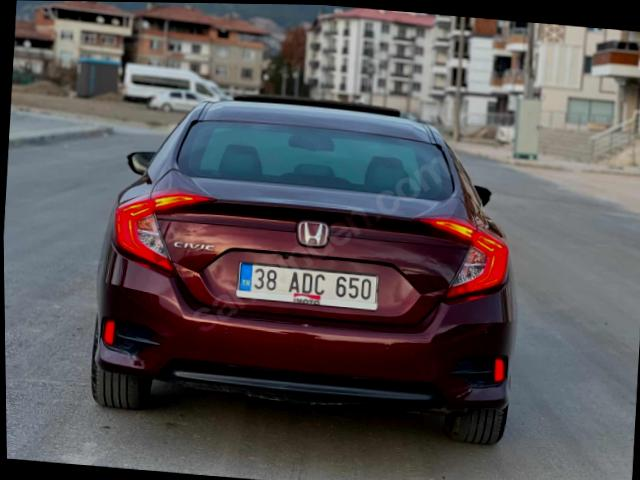plaka: (235, 262, 378, 310)
